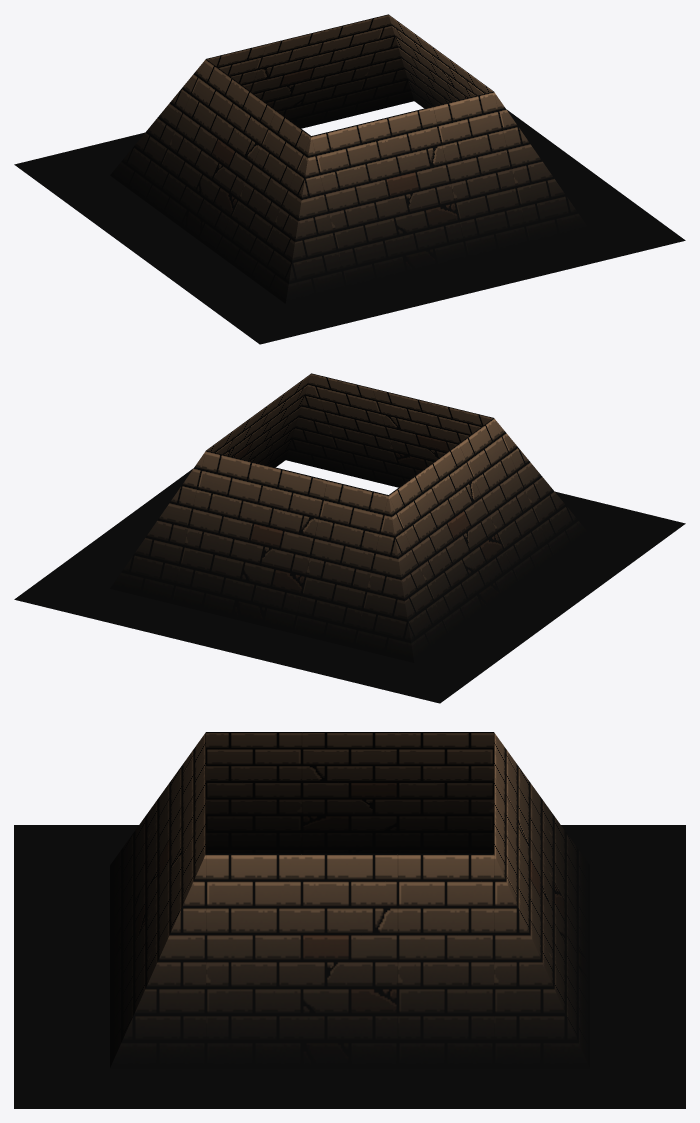
Rendered from wallBottom_isle.FBX.
3 views of the same model, one above another, from view 1: azimuth 30°, elevation 25°; view 2: azimuth 150°, elevation 25°; view 3: azimuth 270°, elevation 25° (orthographic). The views are drawn at different scales.
Parts seen in each view (by area): view 1: wallBottom_isle; view 2: wallBottom_isle; view 3: wallBottom_isle.
Boxes of the visible parts, x1,y1,x2,y2 form: wallBottom_isle: (14,14,685,344); wallBottom_isle: (14,373,685,703); wallBottom_isle: (14,732,685,1108).
Size of the model in its own units: 14 by 4 by 14.
Materials: 1 (1 with a texture image).
